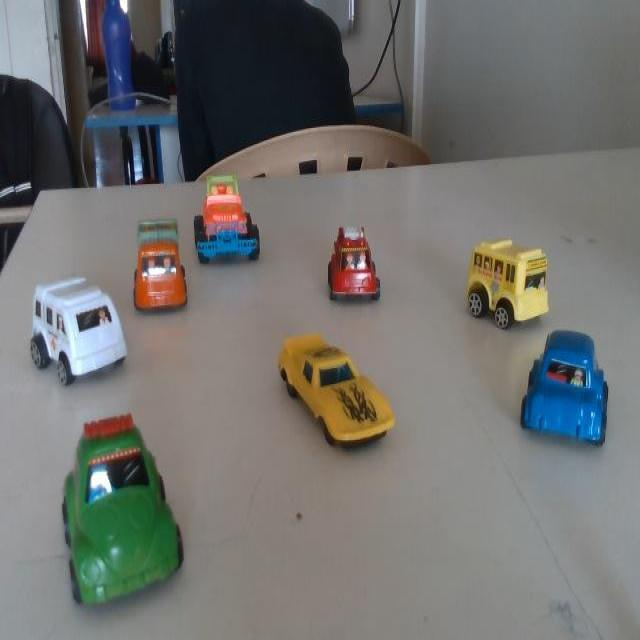car: (37, 417, 183, 592), (261, 326, 402, 456), (17, 258, 136, 406), (518, 325, 615, 452), (456, 238, 541, 336), (195, 165, 273, 264), (313, 216, 383, 316), (124, 208, 187, 318)
